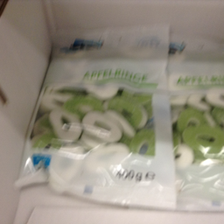candy: (22, 27, 178, 205), (137, 59, 224, 210)
